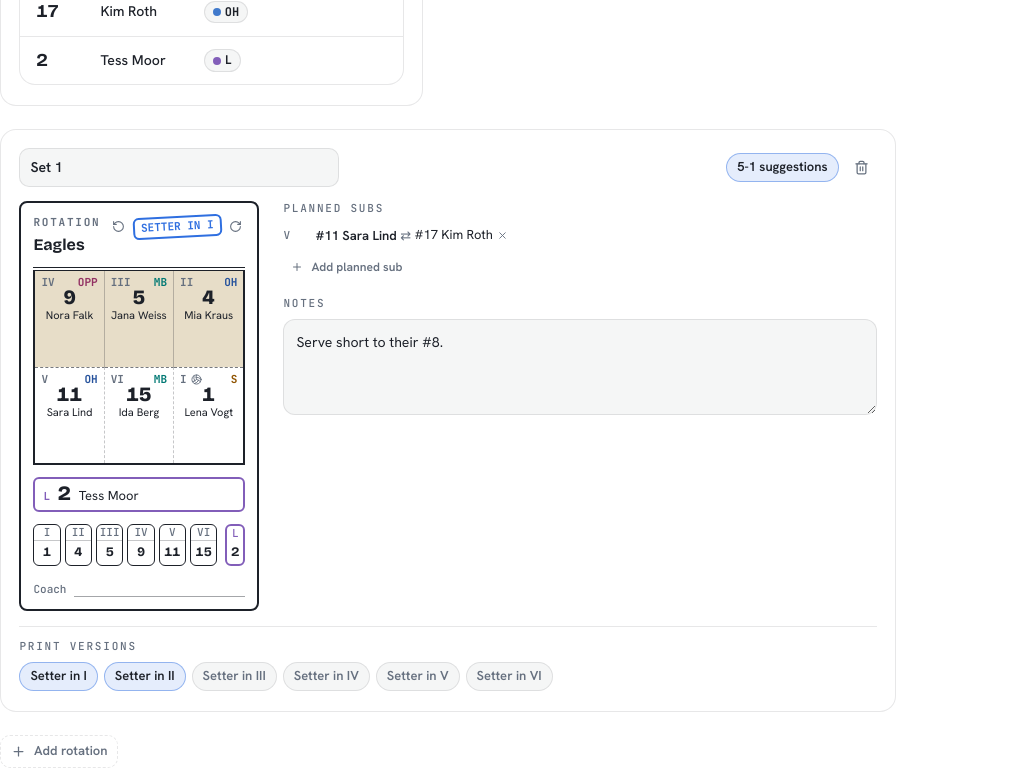
Test: GamePage as a coach › Leave empty clears a position
(page scrolled)
Click the button with aria-label "Position I: #1 Lena Vogt" at (209, 415), box left=174, top=368, right=243, bottom=463
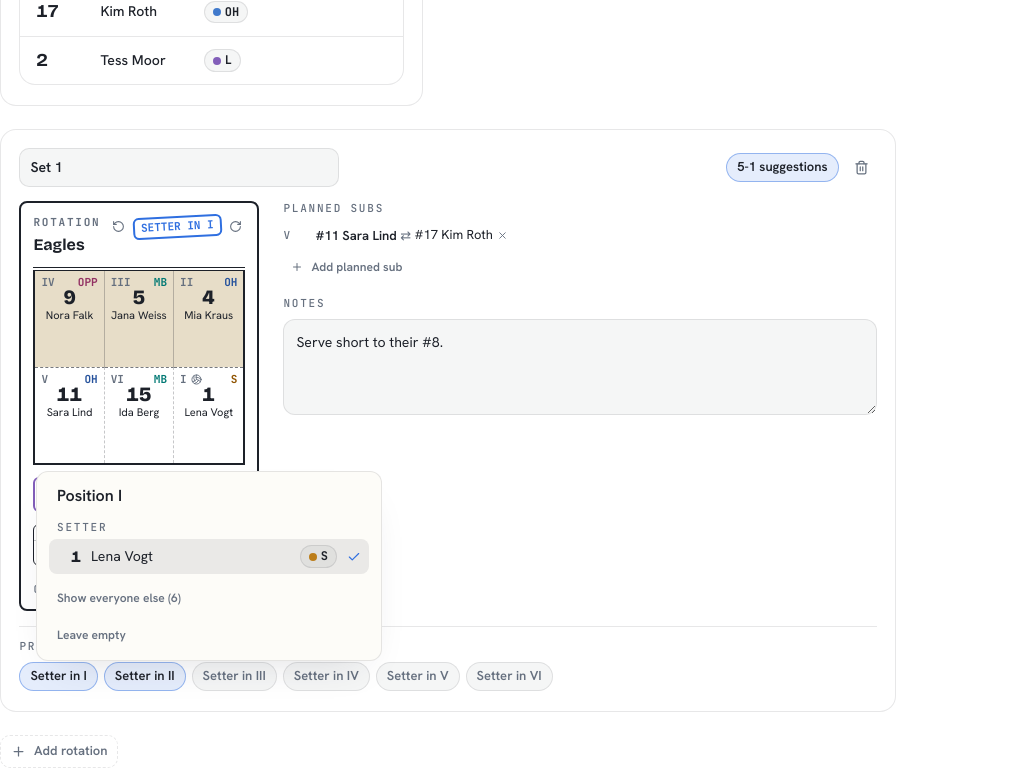
Click the button "Leave empty" at (91, 635), box left=49, top=623, right=134, bottom=648
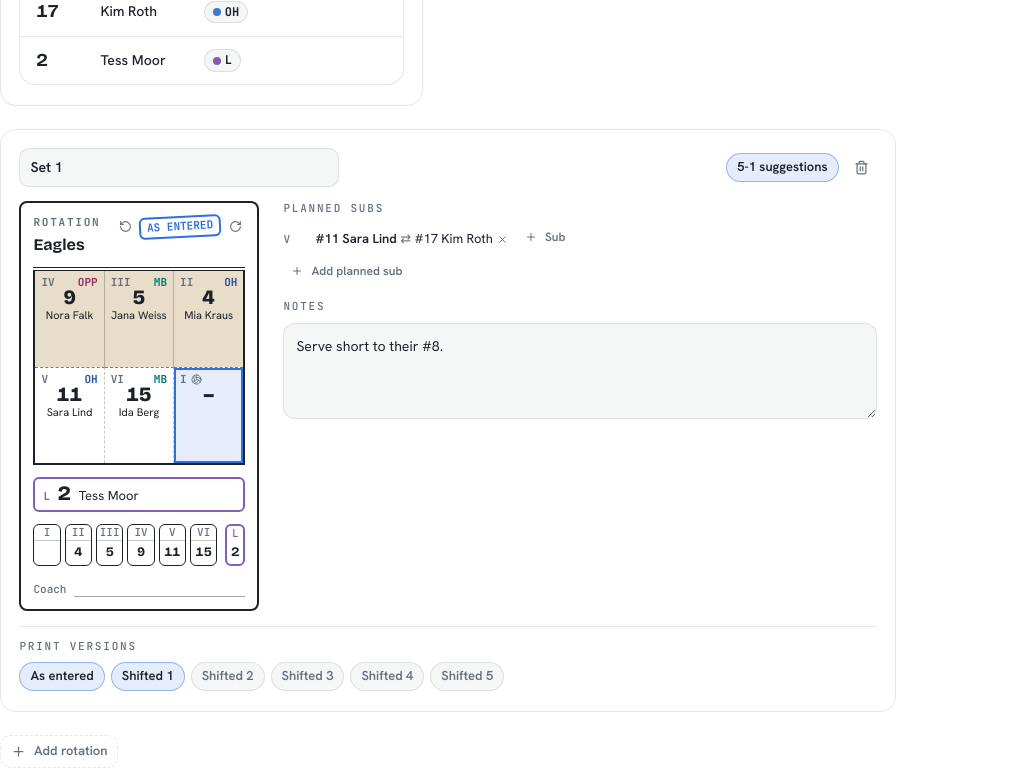
Expected: the button named "Position I: empty" is shown, left=174, top=368, right=243, bottom=463
